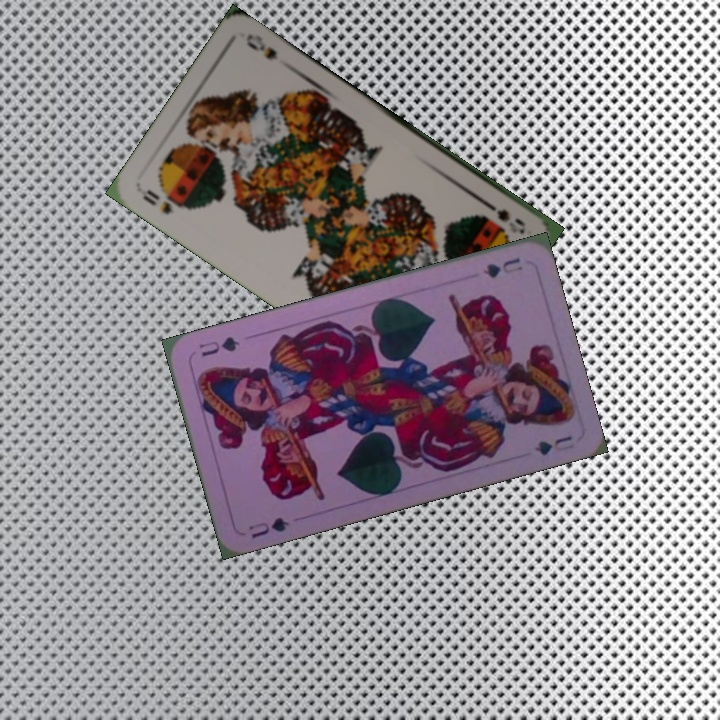GU: (244, 513, 292, 541), (478, 253, 526, 281)
SO: (479, 196, 528, 237), (136, 185, 186, 217)
